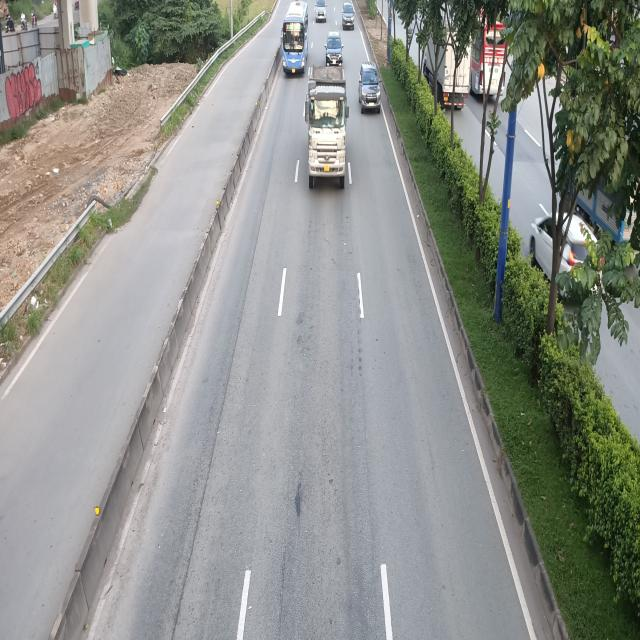car: (358, 62, 382, 112)
coach: (282, 2, 308, 77)
truck: (307, 68, 352, 188)
